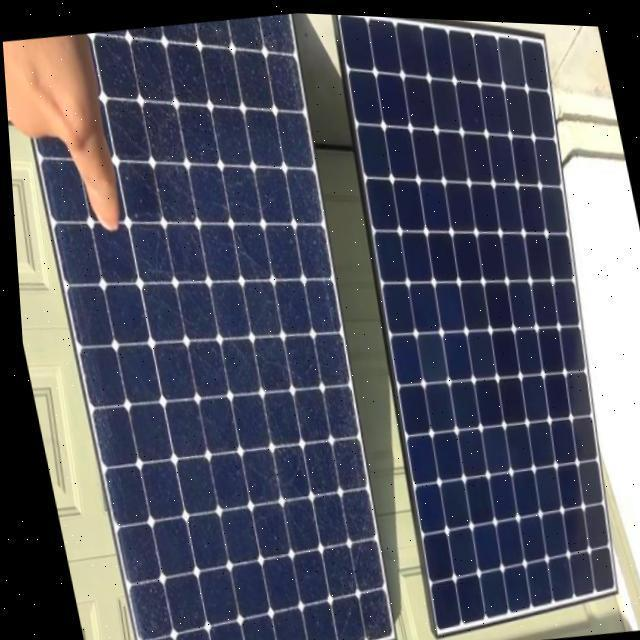Anomaly Solar Panel: (32, 11, 385, 640)
Normal Solar Panel: (309, 11, 640, 640)
